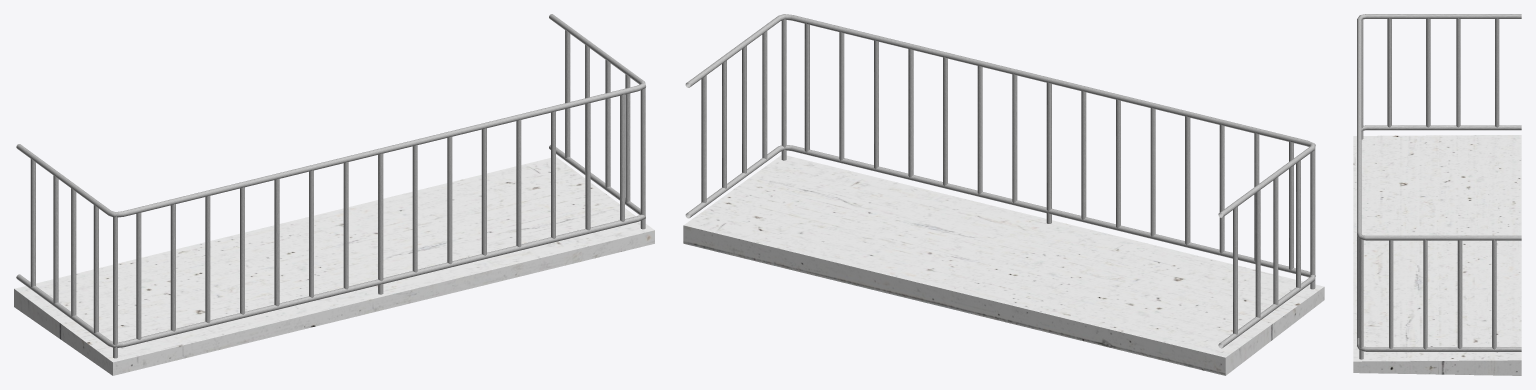
The model's file is StangenGeländer.glb.
The picture shows the model from 3 angles, left to right: view 1: azimuth 30°, elevation 25°; view 2: azimuth 150°, elevation 25°; view 3: azimuth 270°, elevation 25°; orthographic projection. The views are drawn at different scales.
Visible parts, largest first — view 1: Cube.002; view 2: Cube.002; view 3: Cube.002.
Part boxes in pixels (bbox=[...]): Cube.002: bbox=[14, 14, 654, 375]; Cube.002: bbox=[683, 14, 1324, 375]; Cube.002: bbox=[1353, 14, 1521, 375].
Bounding box in the file's own units: 9.78 × 2.8 × 3.09.
Materials: 2 (2 with a texture image).
